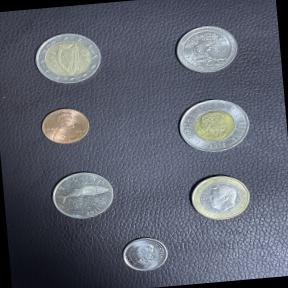1 Euro-B: (185, 170, 256, 226)
2 Euro-B: (28, 25, 108, 90)
Canada-10cent-B: (118, 234, 172, 277)
Canada-2Dollar-B: (171, 91, 257, 160)
Croatia-2Kune-B: (46, 167, 119, 225)
US-1cent-B: (36, 103, 96, 148)
US-25cent-B: (170, 19, 243, 79)
